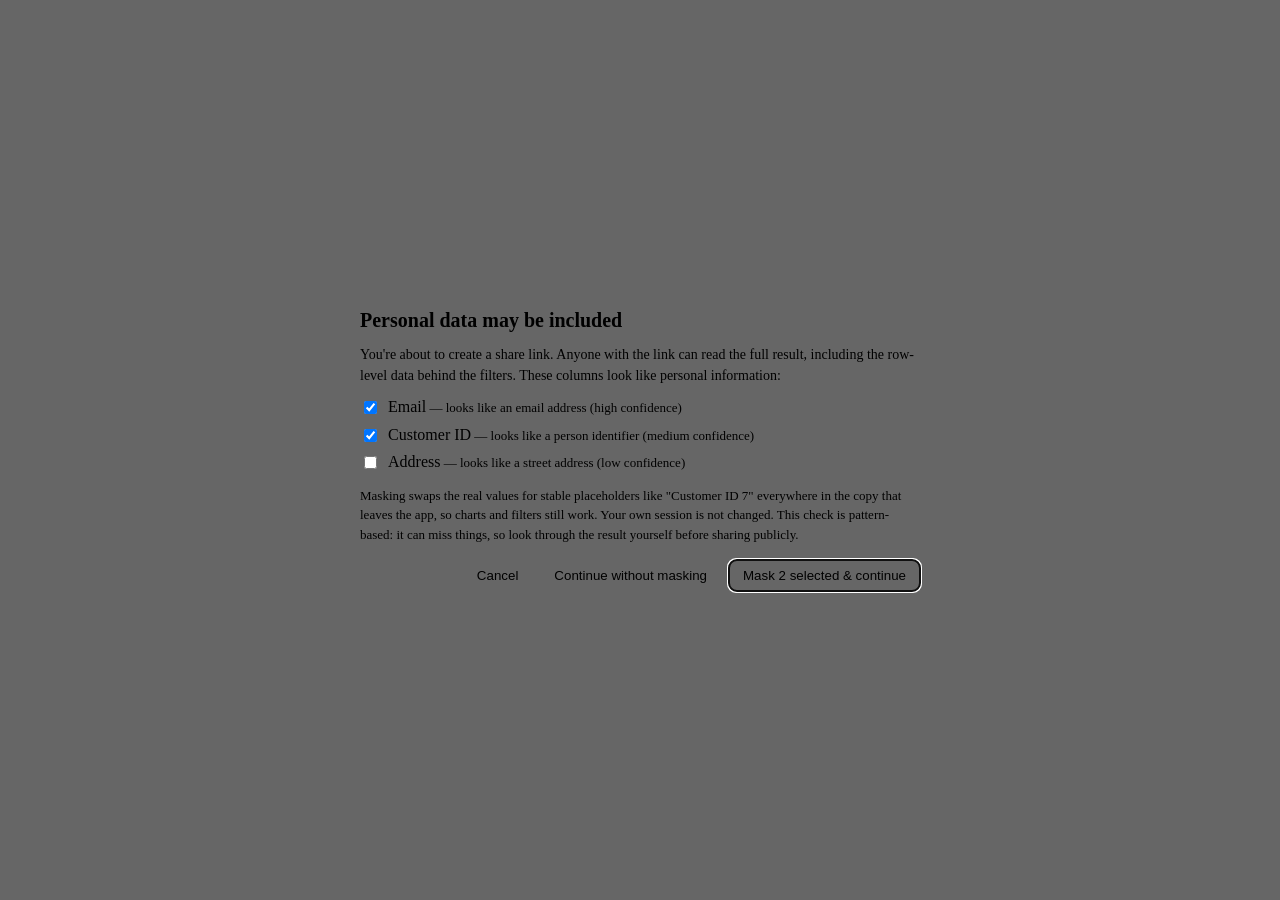
Scenario: SensitiveExportDialog › cannot "mask" with nothing ticked
Click the checkbox named "Mask Email": (370,408) left=364, top=401, right=377, bottom=414
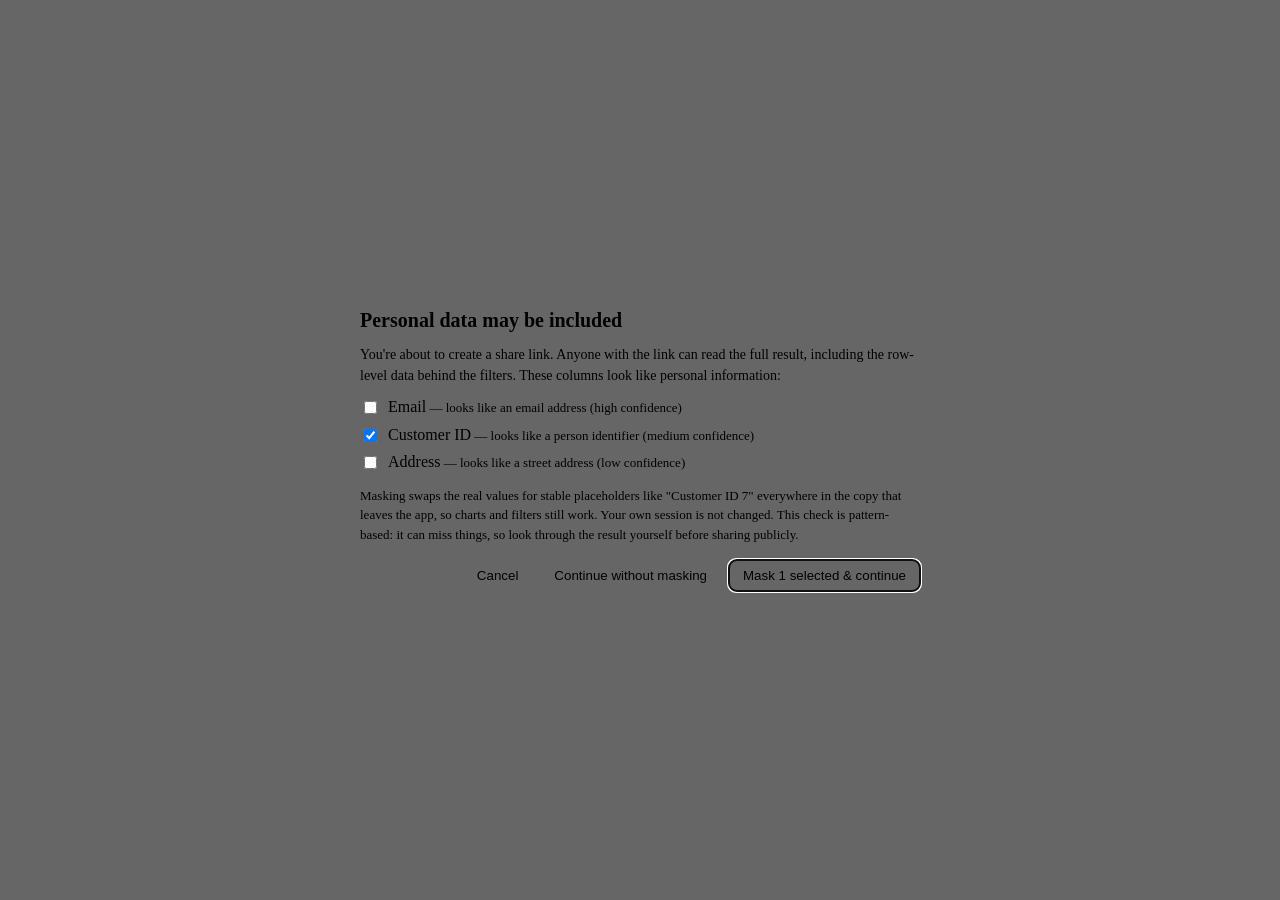
Click the checkbox named "Mask Customer ID": (370,435) left=364, top=428, right=377, bottom=442
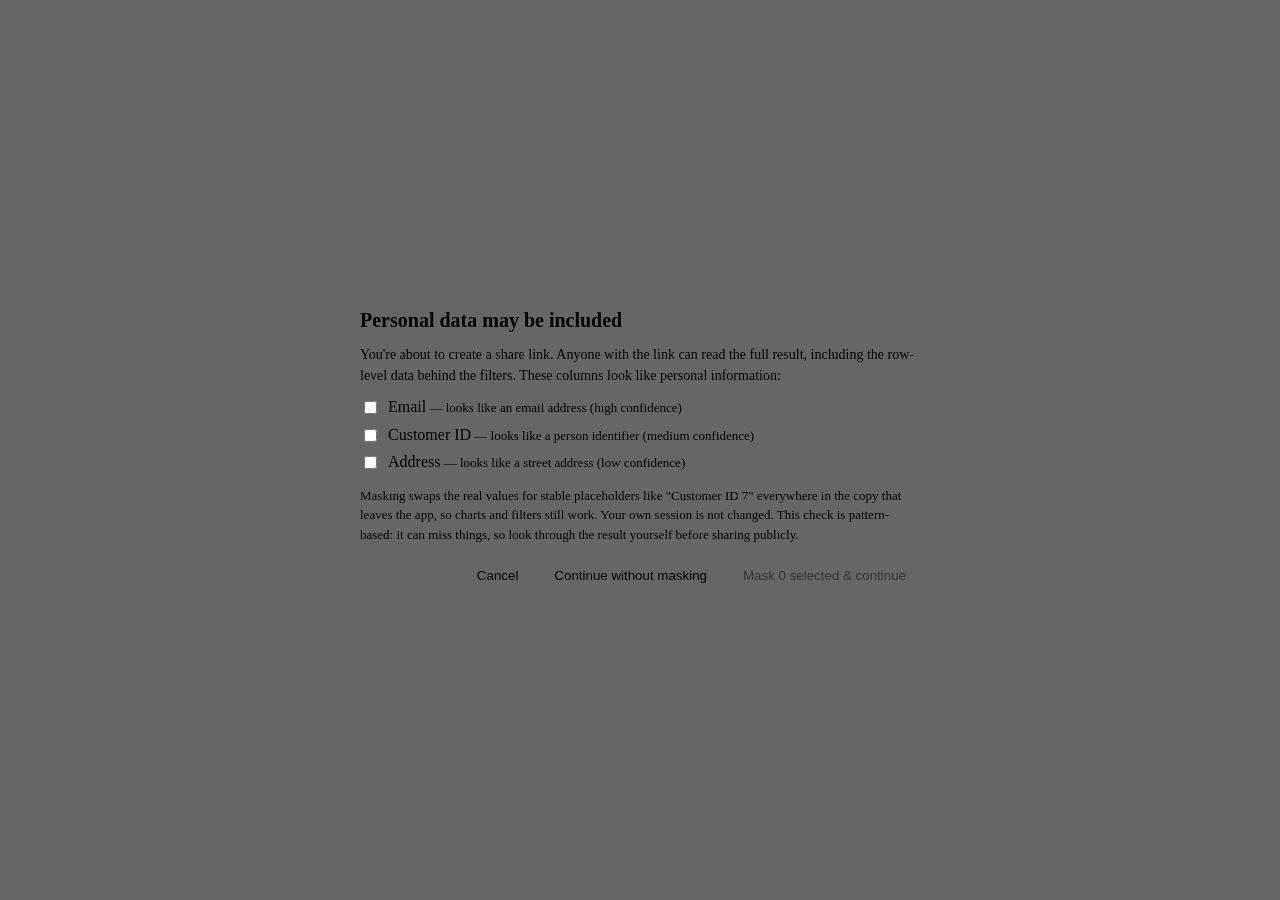
expect the button "Mask 0 selected & continue" is disabled: met, box left=729, top=560, right=920, bottom=591
